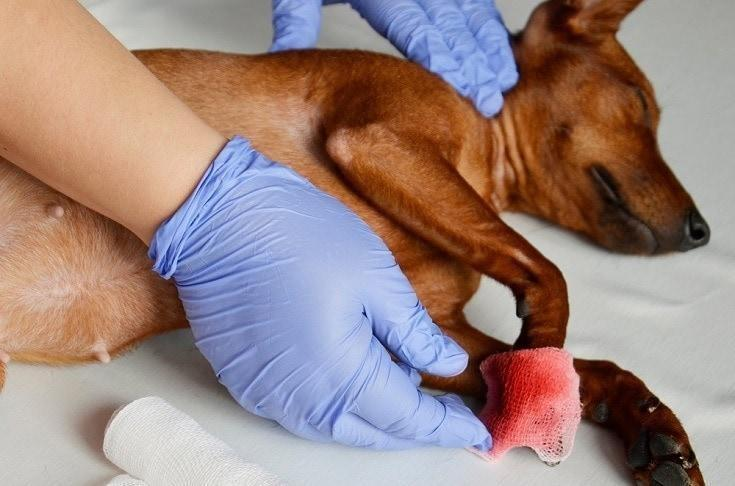bleeding: (453, 331, 631, 471)
